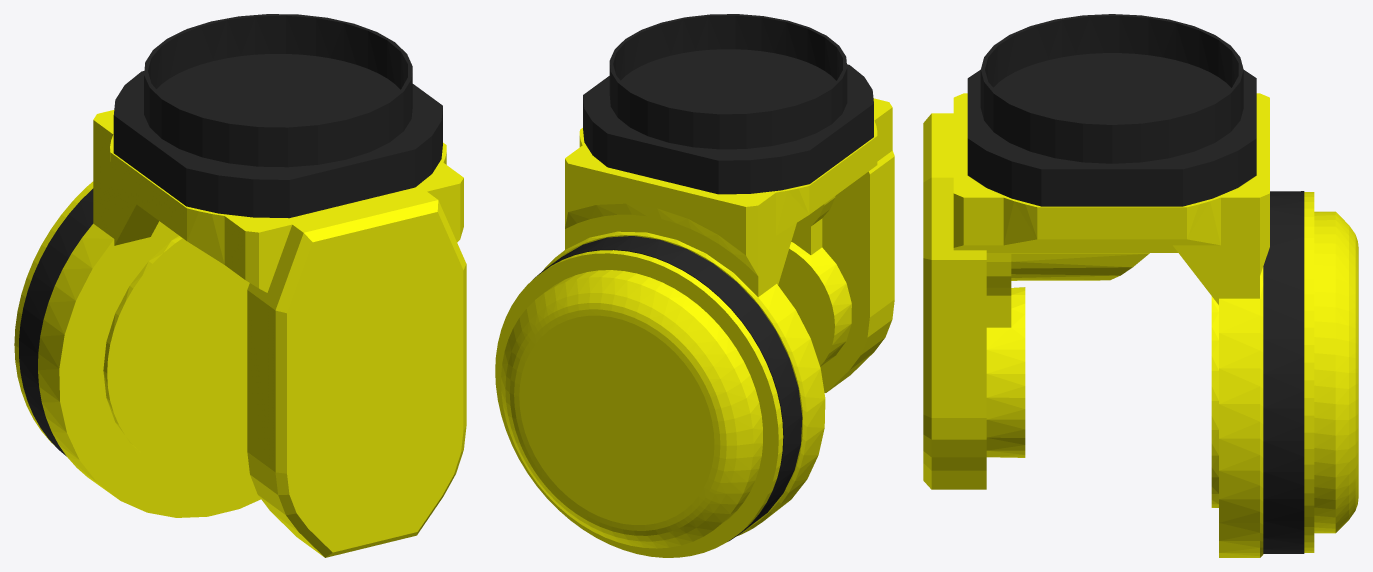
3 views of the same model, side by side, from view 1: azimuth 30°, elevation 25°; view 2: azimuth 150°, elevation 25°; view 3: azimuth 270°, elevation 25° (orthographic). The views are drawn at different scales.
Visible parts, largest first — view 1: node; view 2: node; view 3: node.
Part boxes in pixels (bbox=[...]): node: bbox=[14, 14, 466, 557]; node: bbox=[495, 14, 894, 557]; node: bbox=[923, 14, 1358, 557].
Bounding box in the file's own units: 226 × 316 × 265.
